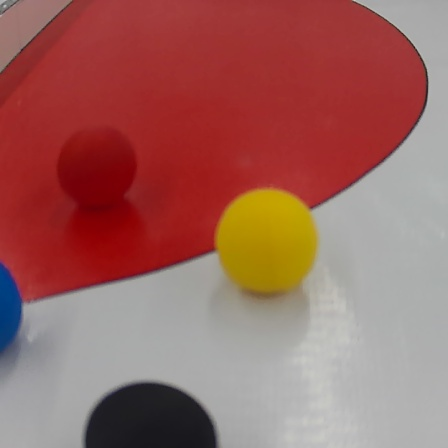black: (83, 378, 220, 447)
red: (57, 131, 136, 208)
red_base: (1, 3, 432, 303)
yellow: (214, 187, 320, 298)
